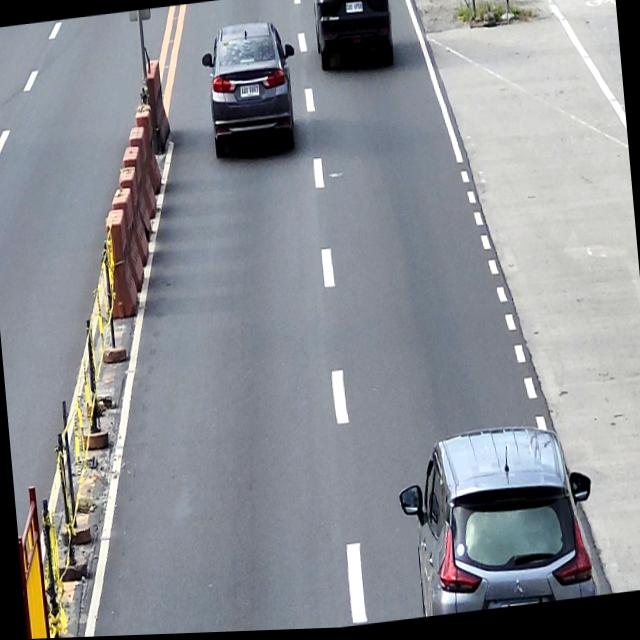Car: (394, 419, 600, 622), (198, 18, 302, 161), (311, 0, 395, 75)
License-Plate: (238, 83, 260, 100), (344, 2, 364, 16)
